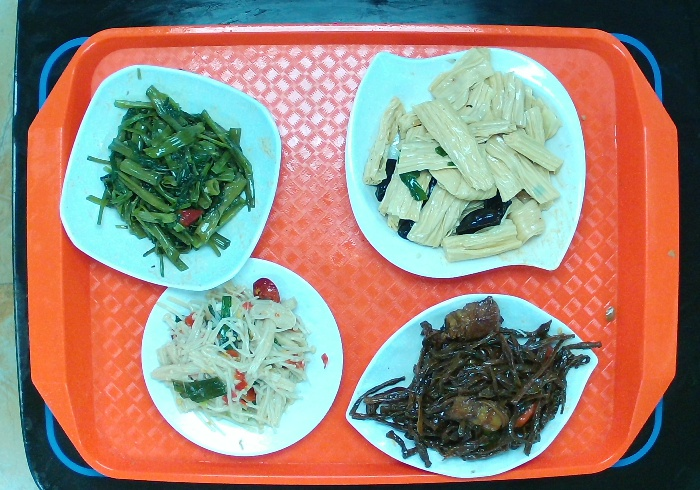RJxy-Da_Du_Pan: (339, 290, 604, 482)
RJxy-Shuang_Jiao_Pan: (342, 45, 591, 282)
RJxy-Si_Fang_Wan: (55, 62, 284, 296)
RJxy-Xiao_Yuan_Die: (135, 255, 346, 462)
